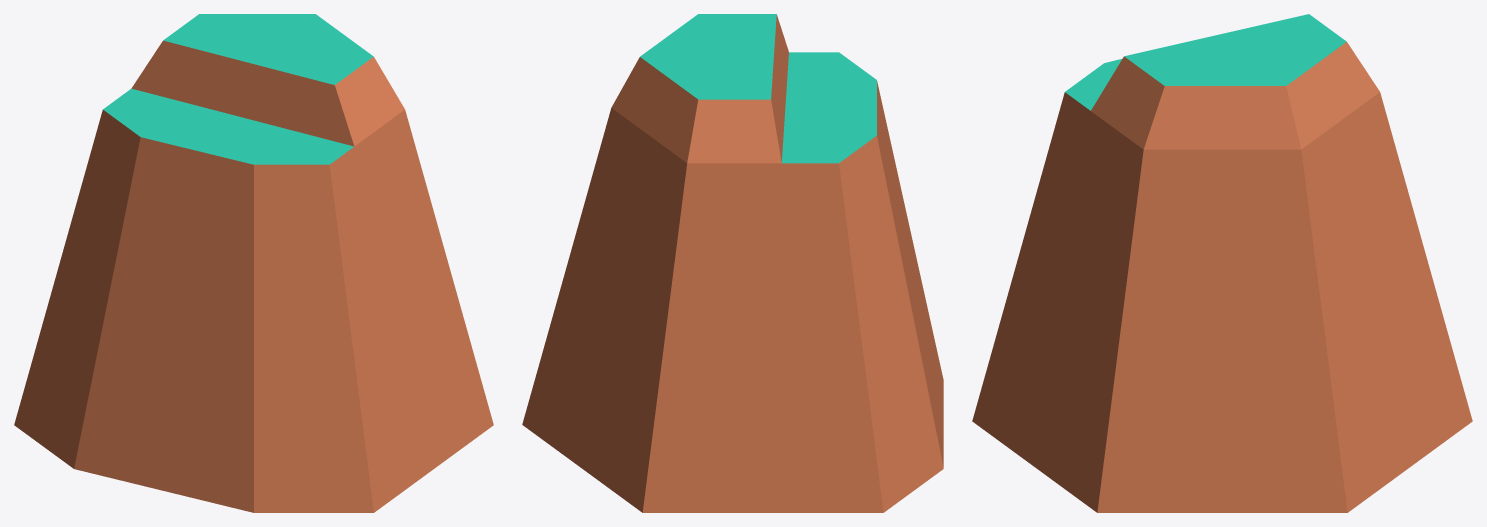
The model's file is rock_tallE.dae.
3 renders of one model, left to right at view 1: azimuth 30°, elevation 25°; view 2: azimuth 150°, elevation 25°; view 3: azimuth 270°, elevation 25°, orthographic. The views are drawn at different scales.
Visible parts, largest first — view 1: rock_tallE; view 2: rock_tallE; view 3: rock_tallE.
Part boxes in pixels (x1,y1,x2,y2): rock_tallE: [14, 14, 493, 512]; rock_tallE: [522, 14, 943, 512]; rock_tallE: [972, 14, 1472, 512].
Size of the model in its own units: 0.4562 by 0.4438 by 0.5268.
